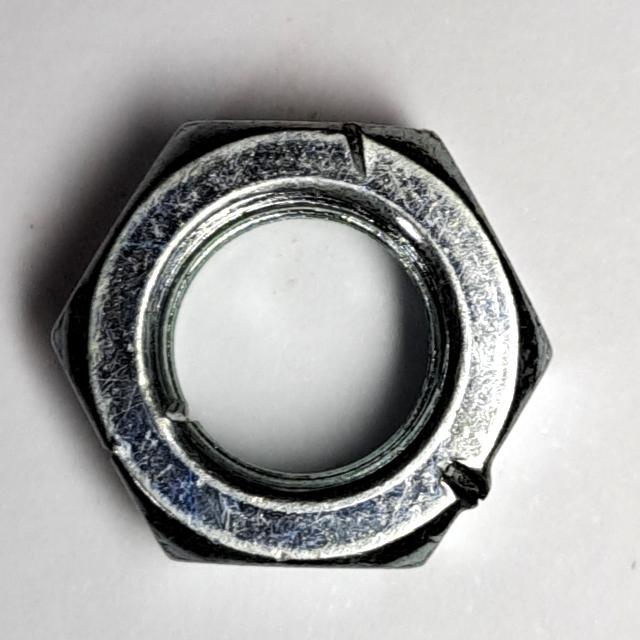Scratches: (36, 104, 569, 590)
